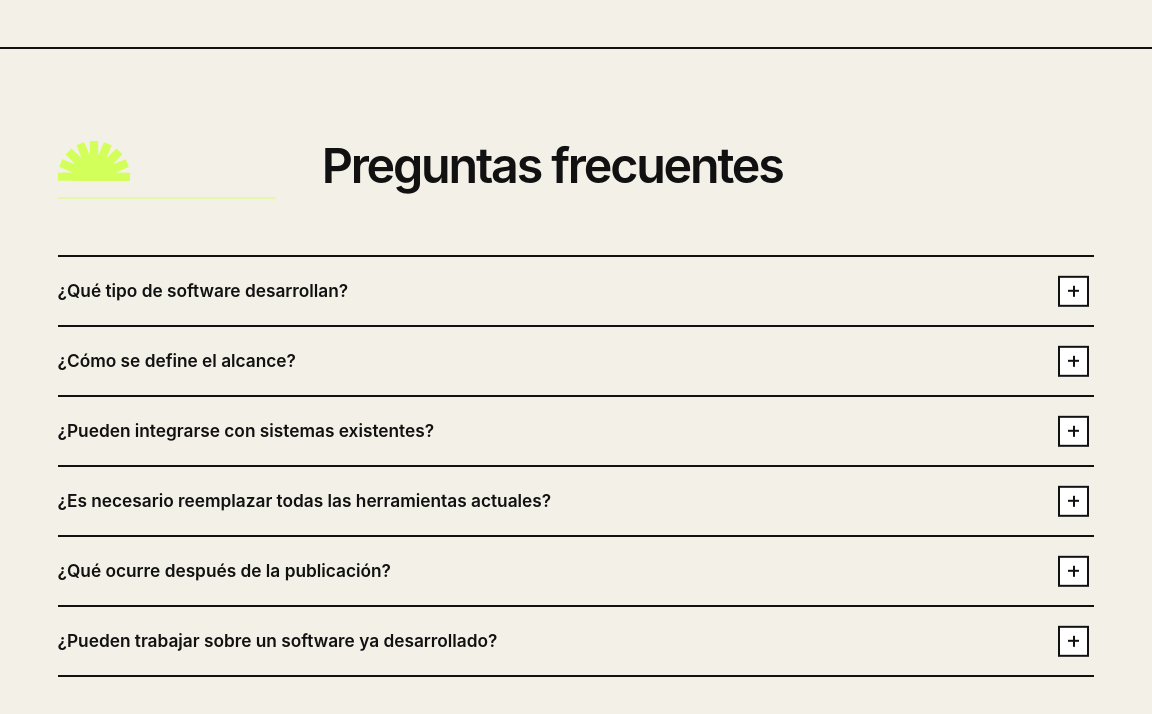
Test: Software page › opens one FAQ answer and reports its expanded state
(page scrolled)
Click the button "¿Cómo se define el alcance?" at (177, 361), box [58, 327, 1094, 395]
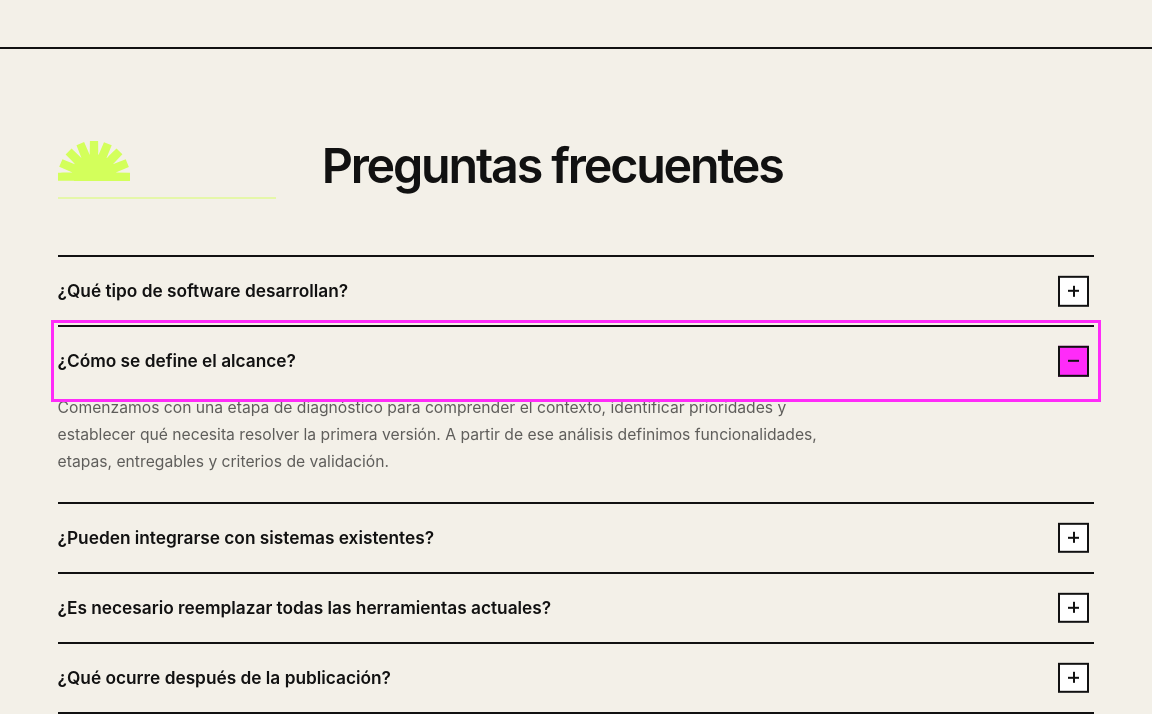
Check: the button "¿Cómo se define el alcance?" is expanded, box [58, 327, 1094, 395]
Check: the text "Comenzamos con una etapa de diagnóstico" is shown, box [58, 398, 817, 471]
Click the button "¿Qué tipo de software desarrollan?" at (203, 291), box [58, 257, 1094, 325]
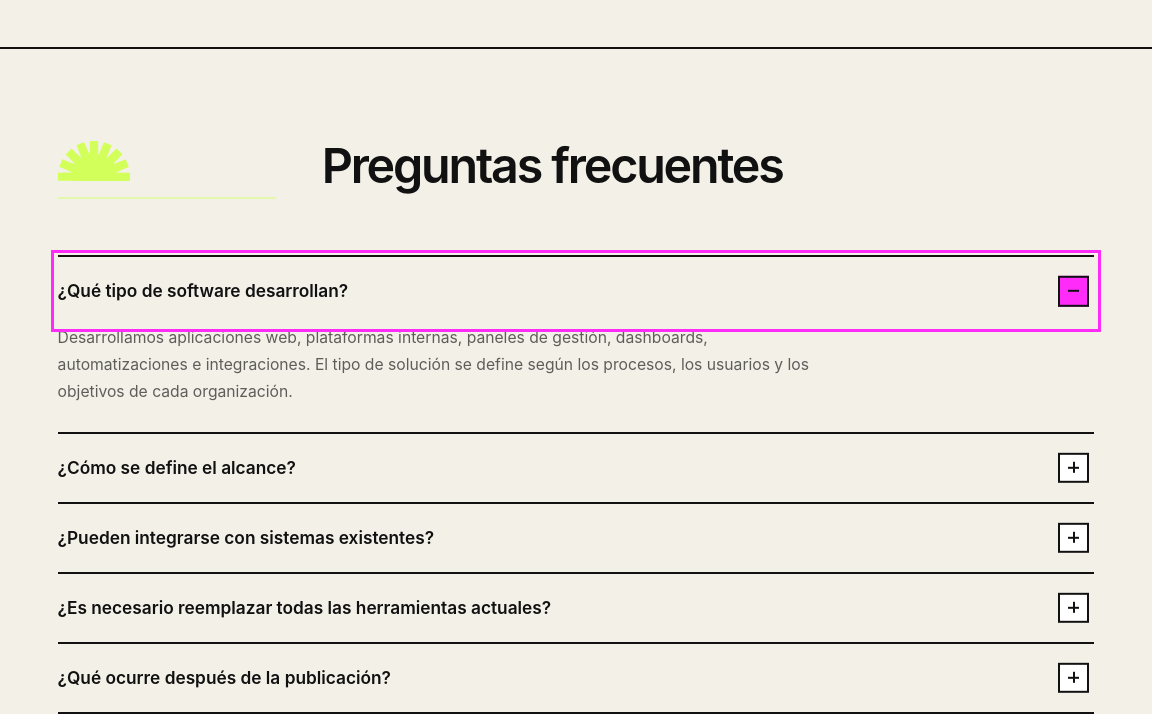
Check: the button "¿Qué tipo de software desarrollan?" is expanded
Check: the button "¿Cómo se define el alcance?" is collapsed, box [58, 434, 1094, 502]
Click the button "¿Qué tipo de software desarrollan?" at (203, 291), box [58, 257, 1094, 325]
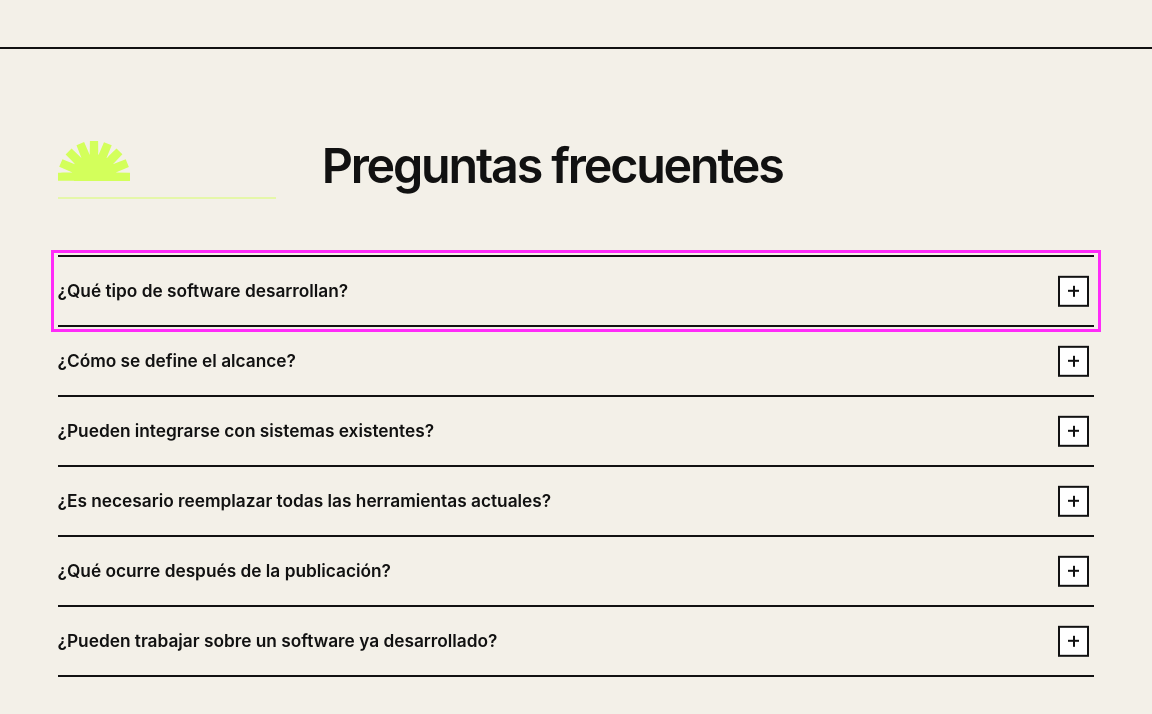
Check: the button "¿Qué tipo de software desarrollan?" is collapsed, box [58, 257, 1094, 325]
